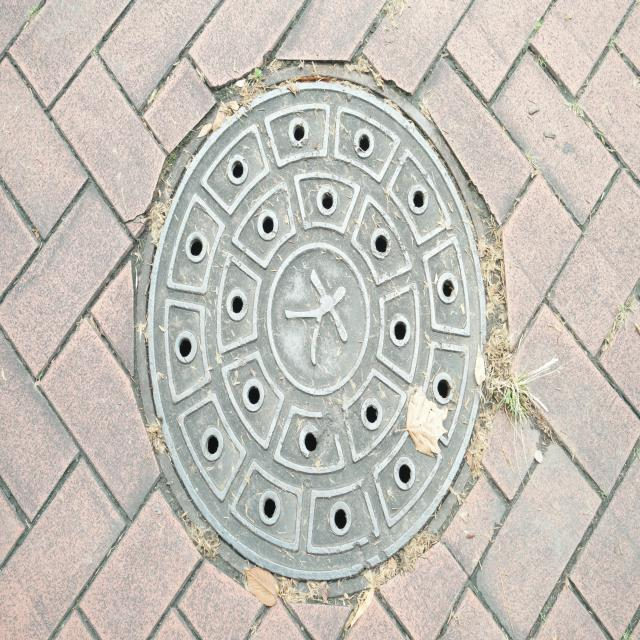manhole: (128, 64, 489, 587)
